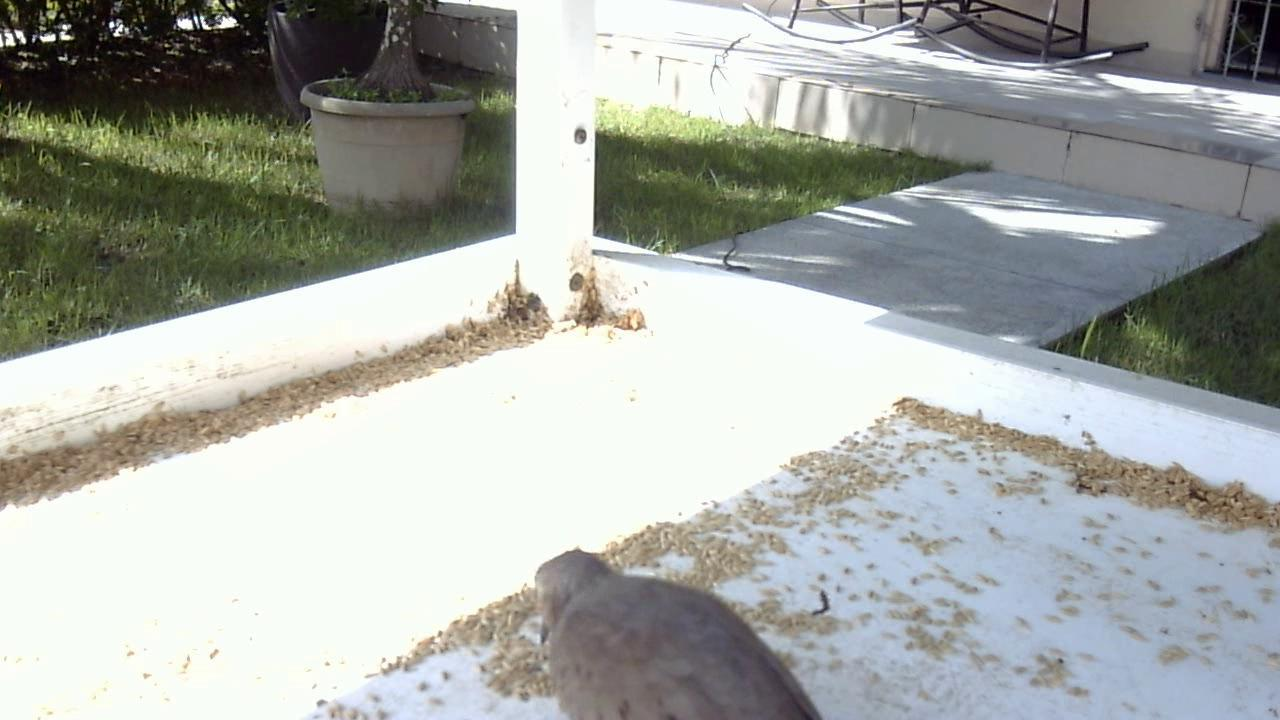rolinha: (499, 523, 835, 720)
